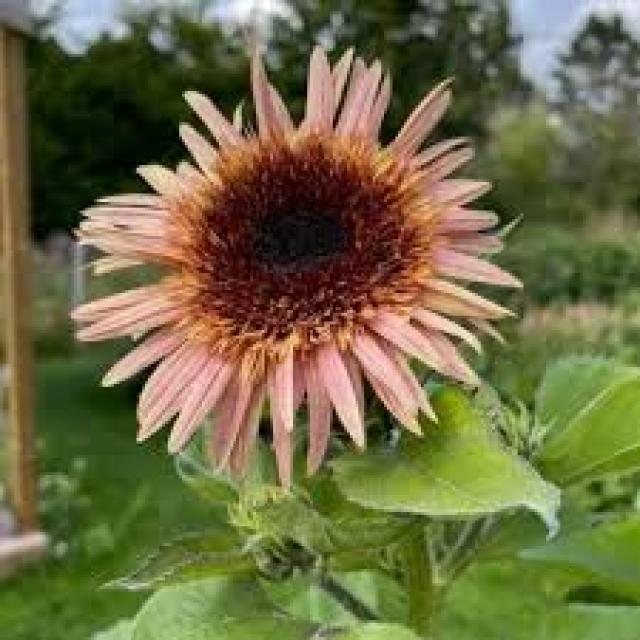sunflower: (61, 32, 534, 500)
